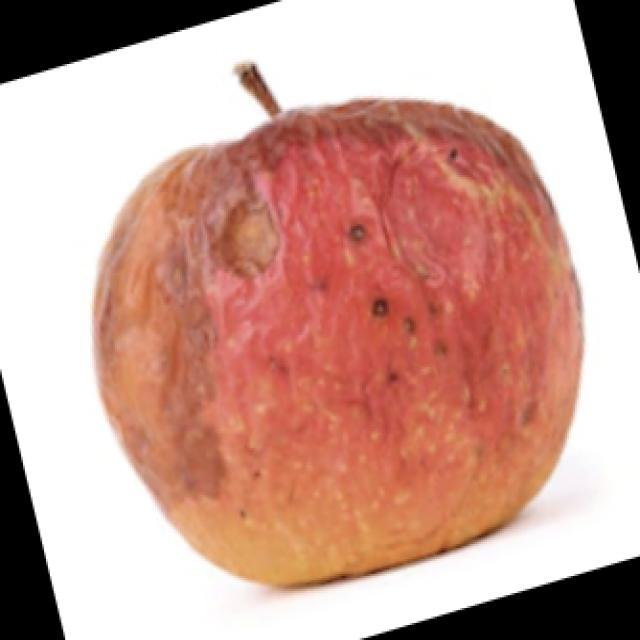Rotten: (81, 87, 586, 583)
